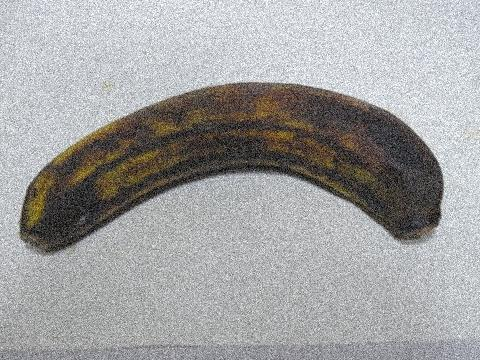overripe: (6, 58, 454, 271)
